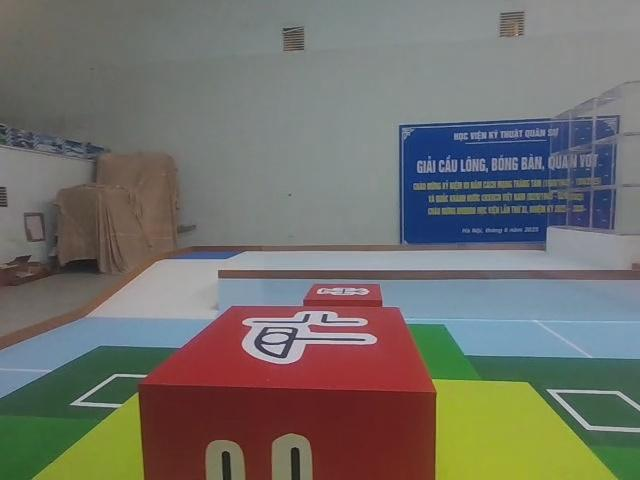R2 Real: (136, 298, 440, 480)
